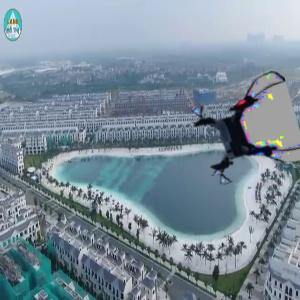drone: (194, 80, 299, 185)
